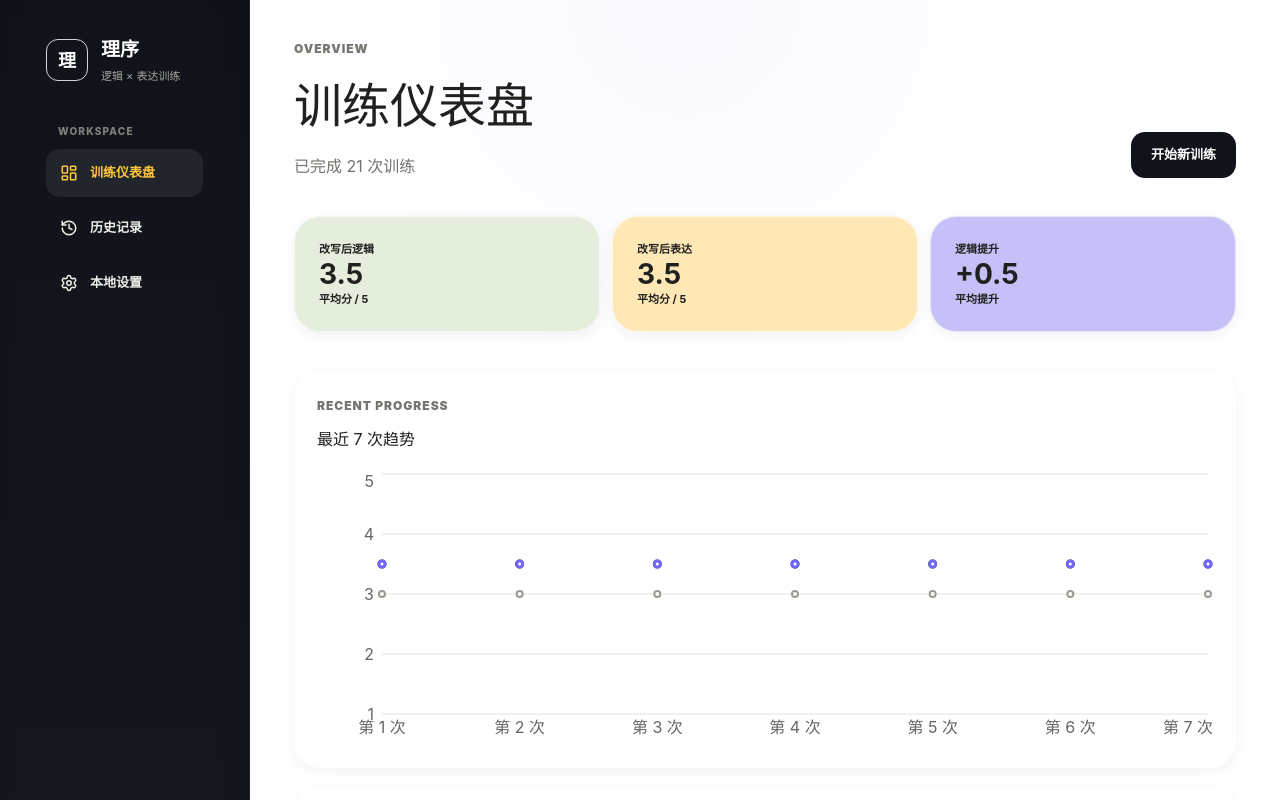
Test case: DashboardView › keeps a selected history detail available independently of pagination
The width and height of the screenshot is (1280, 800).
Expected: the text "已完成 21 次训练" is shown, [294, 156, 415, 176]
Click the button "历史记录": [124, 228] box [46, 204, 203, 252]
(page scrolled)
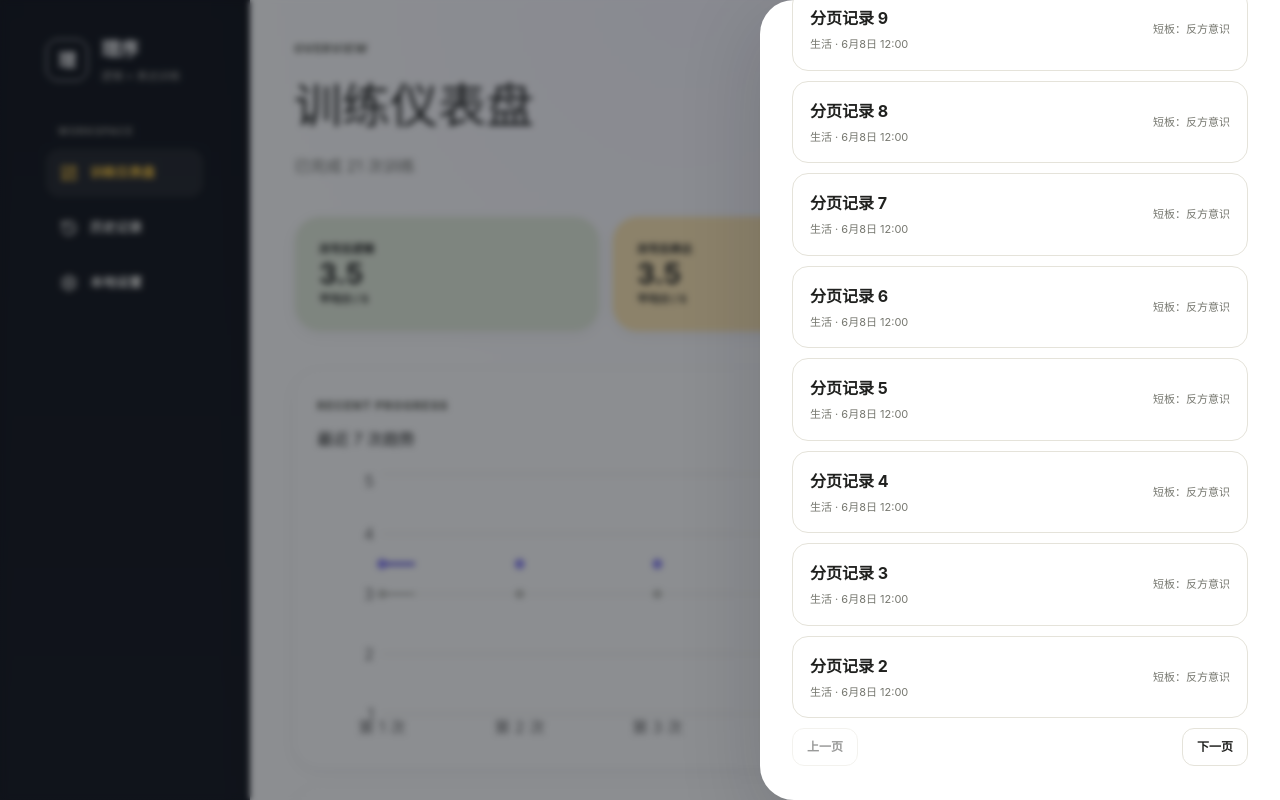
Click the button "下一页": [1215, 747] box [1182, 728, 1248, 766]
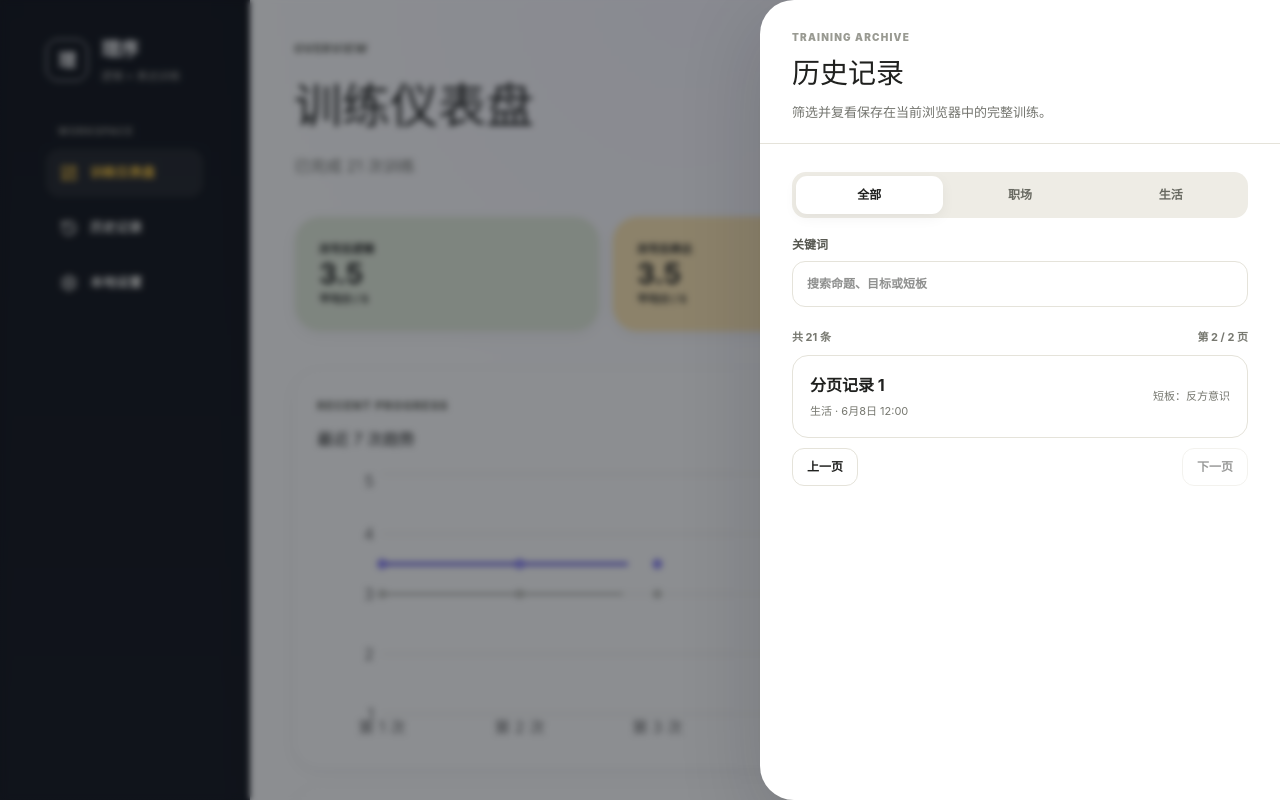
Click the button "分页记录 1": [847, 385] box [792, 355, 1248, 438]
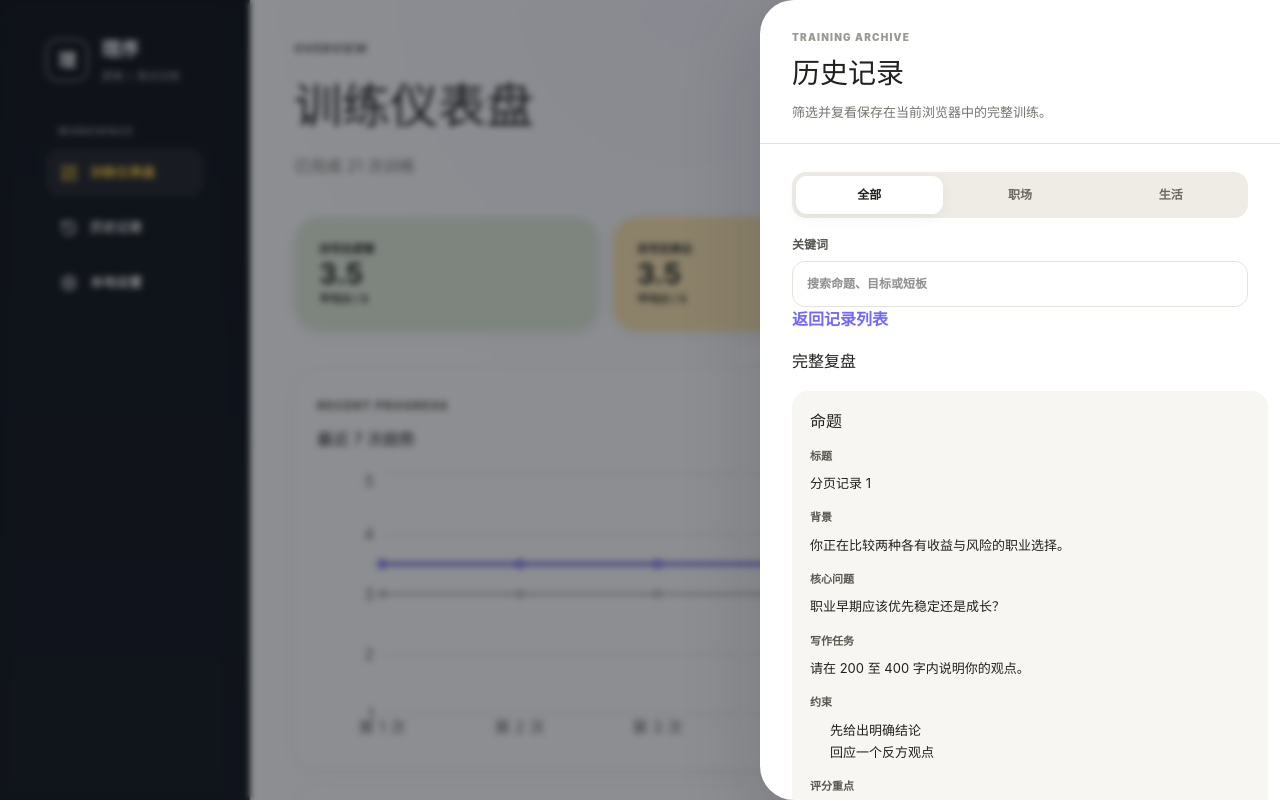
Now the text "分页记录 1" is shown, box [810, 475, 871, 491]
Now the heading "完整复盘" is shown, box [792, 351, 856, 371]
